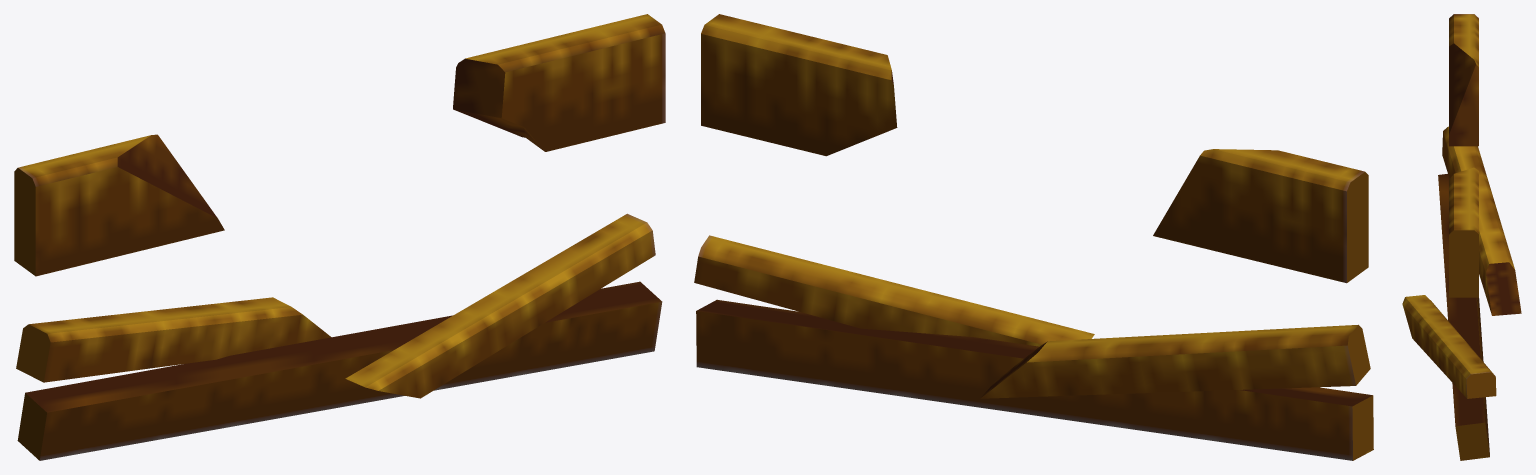
The model's file is fence_0422x04.obj.
3 renders of one model, left to right at view 1: azimuth 30°, elevation 25°; view 2: azimuth 150°, elevation 25°; view 3: azimuth 270°, elevation 25°, orthographic. The views are drawn at different scales.
Visible parts, largest first — view 1: fenceboard_lightwood_long.002; view 2: fenceboard_lightwood_long.002; view 3: fenceboard_lightwood_long.002.
Boxes of the visible parts, box(x1,y1,x2,y2) form: fenceboard_lightwood_long.002: box(14, 14, 665, 460); fenceboard_lightwood_long.002: box(694, 14, 1373, 460); fenceboard_lightwood_long.002: box(1402, 14, 1521, 460).
Size of the model in its own units: 4.4 by 2.17 by 1.01.
